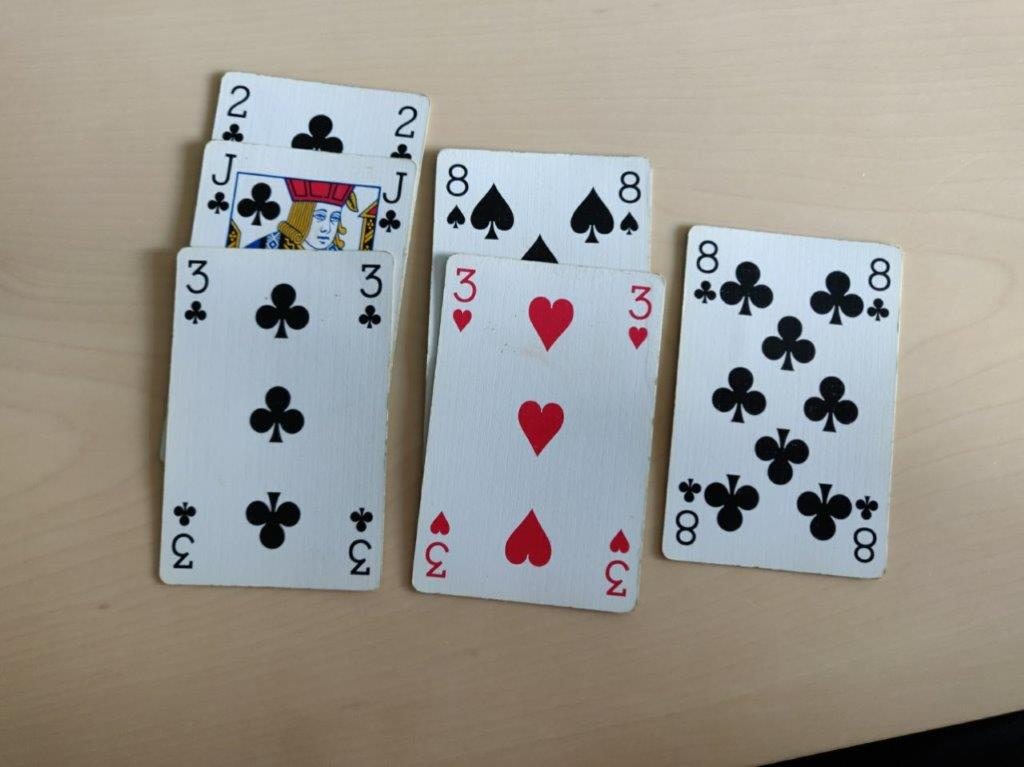3C: (354, 258, 388, 330), (181, 256, 214, 327)
3H: (446, 263, 479, 332), (624, 282, 657, 351)
8C: (691, 237, 721, 305), (865, 254, 895, 322)
8S: (443, 159, 471, 230), (615, 165, 643, 236)
JC: (203, 149, 239, 218), (372, 168, 408, 237)
